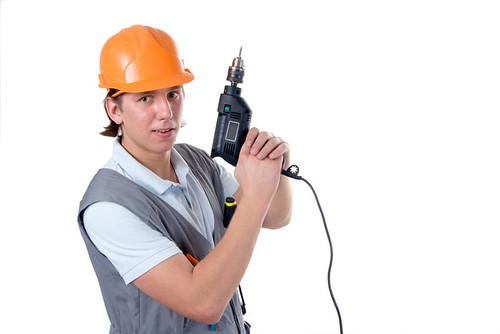person hardhat: (81, 23, 307, 330)
